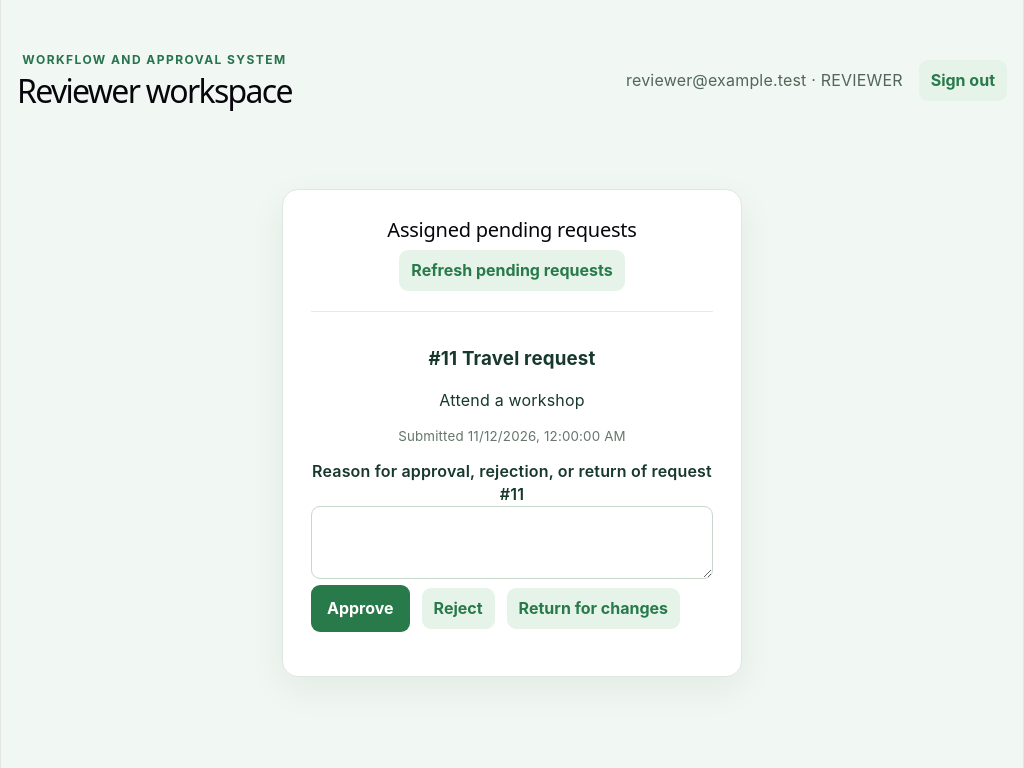
F-03 Reviewer workspace through the application › TEST-F03-UI-02/03: saves APPROVED then refreshes the list
This screenshot has width=1024, height=768.
In the text box labelled "Reason for approval, rejection, or return of request #11": (512,543) [311,506,713,579], type "Approved within budget"
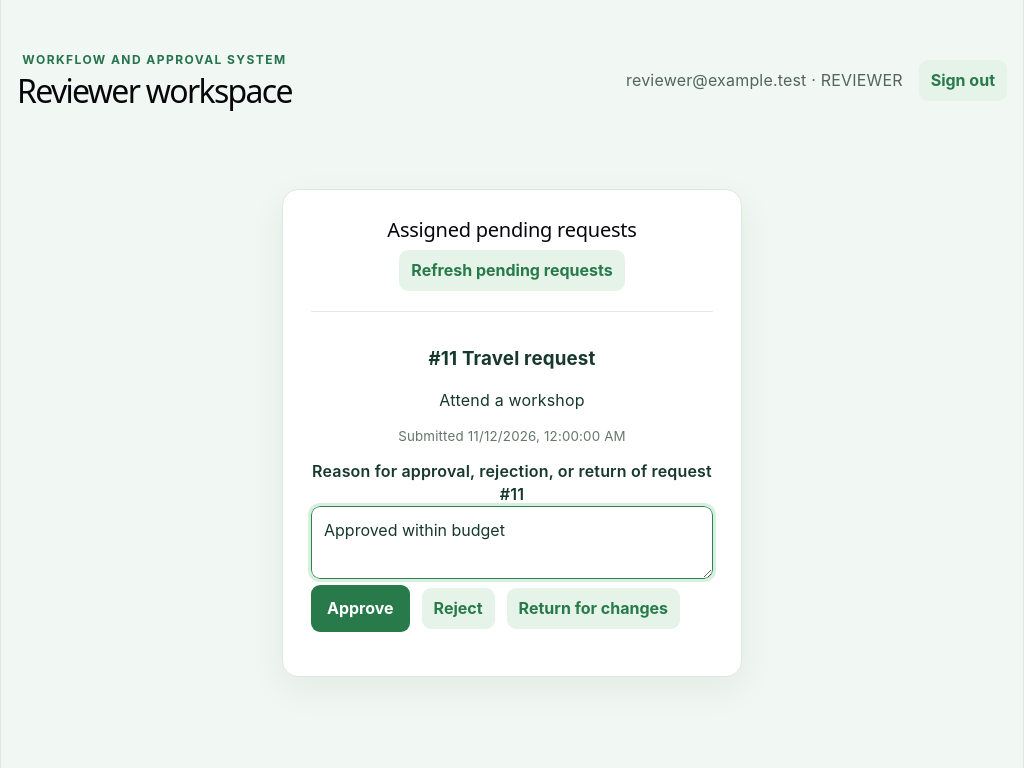
Click the button with aria-label "Approve request #11": (360,609) [311,585,410,632]
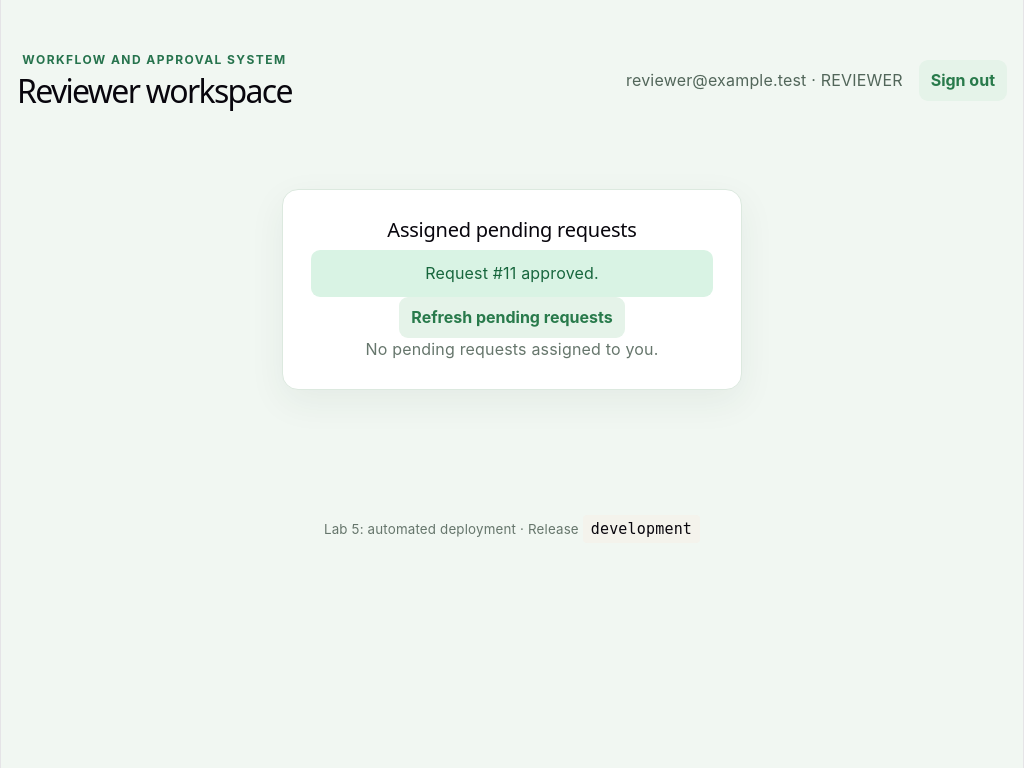
Now the text "Request #11 approved." is shown, box [311,250,713,297]
Now the text "No pending requests assigned to you." is shown, box [366,339,658,359]
Now the text "Travel request" is gone
